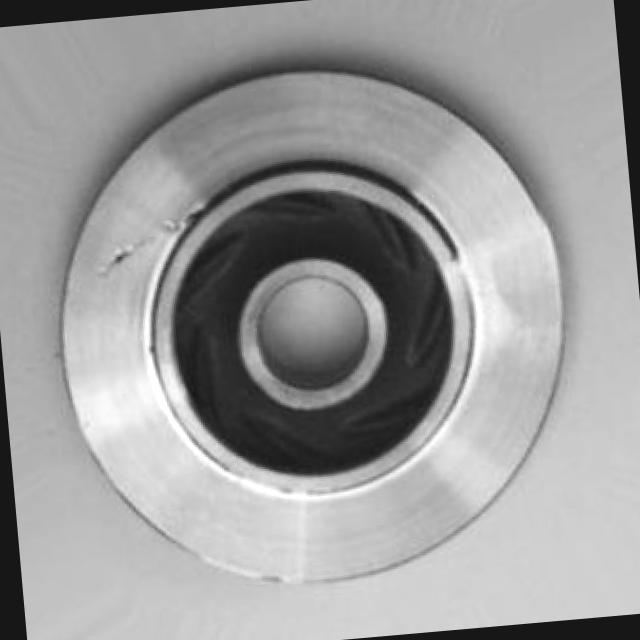Defect: (91, 238, 150, 278)
